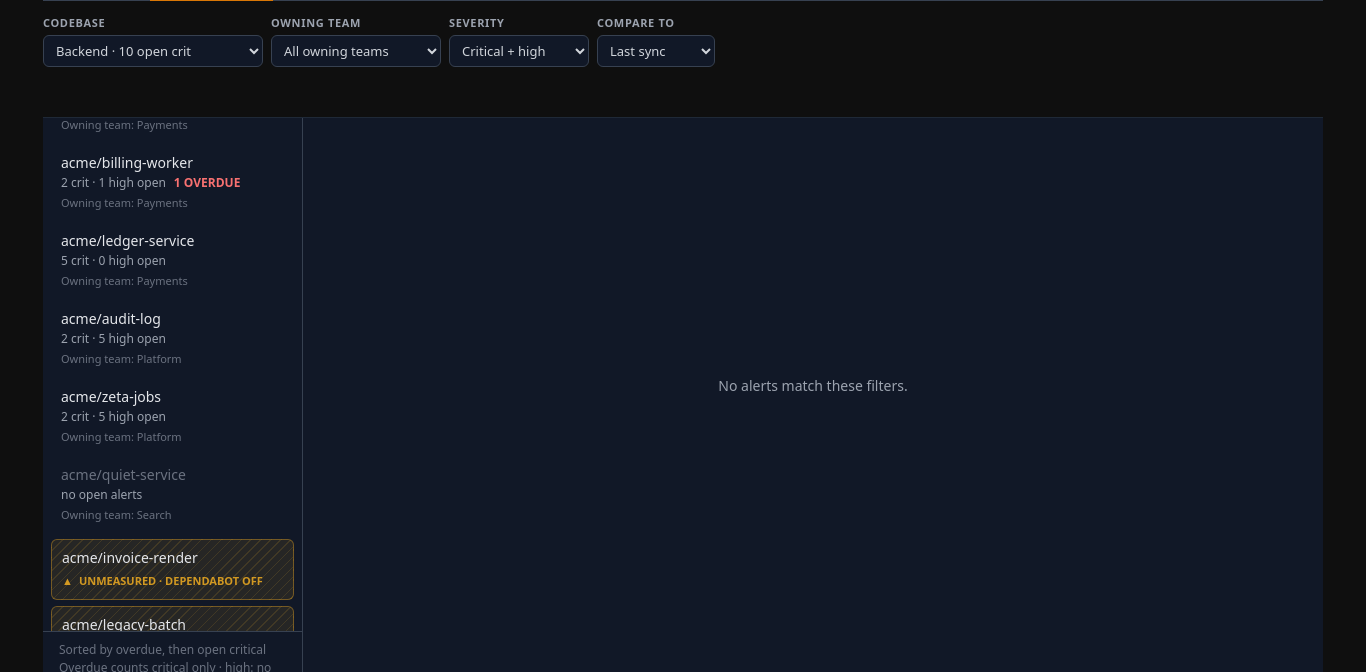
Test: selecting a repository from the rail › narrows the strip and the alerts request to that repository and tints the row; clicking it again clears it
(page scrolled)
Click the button with test id "rail-row". click: point(172, 339)
box: [51,301,294,377]
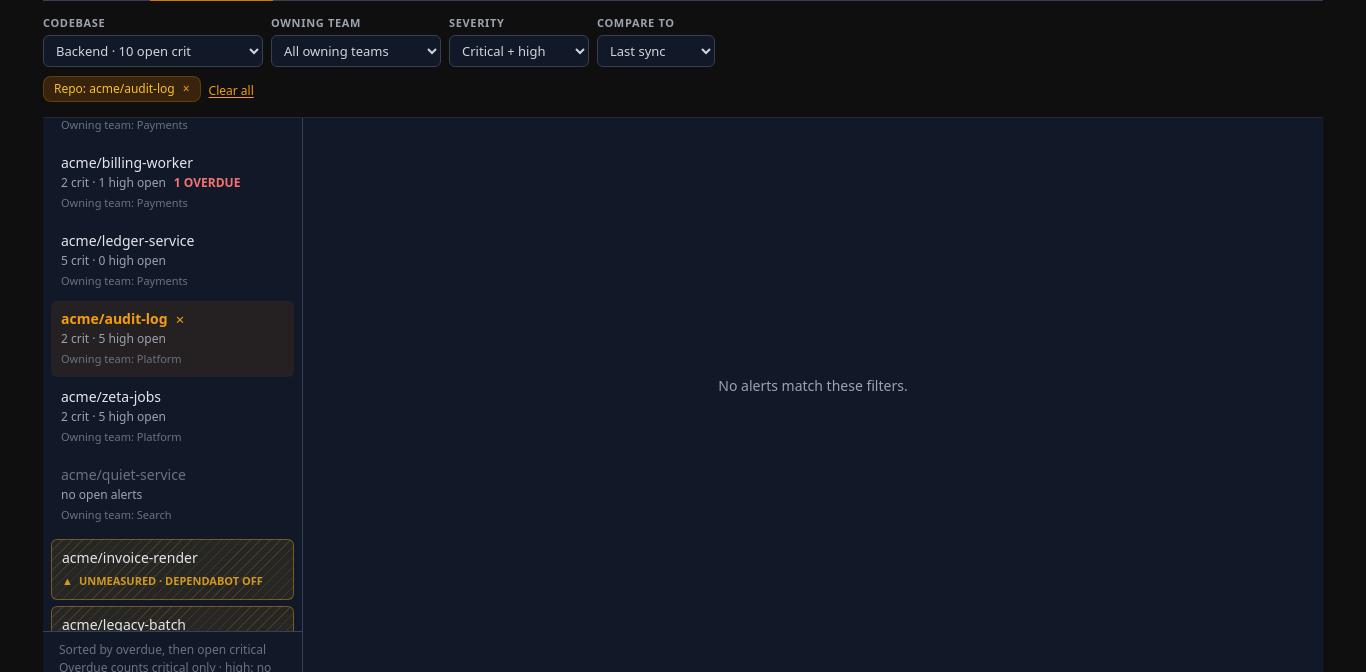
Expected: the button with test id "rail-row" has class "bg-accent/10"
Click the button with test id "rail-row". click: point(172, 339)
box: [51,301,294,377]
(page scrolled)
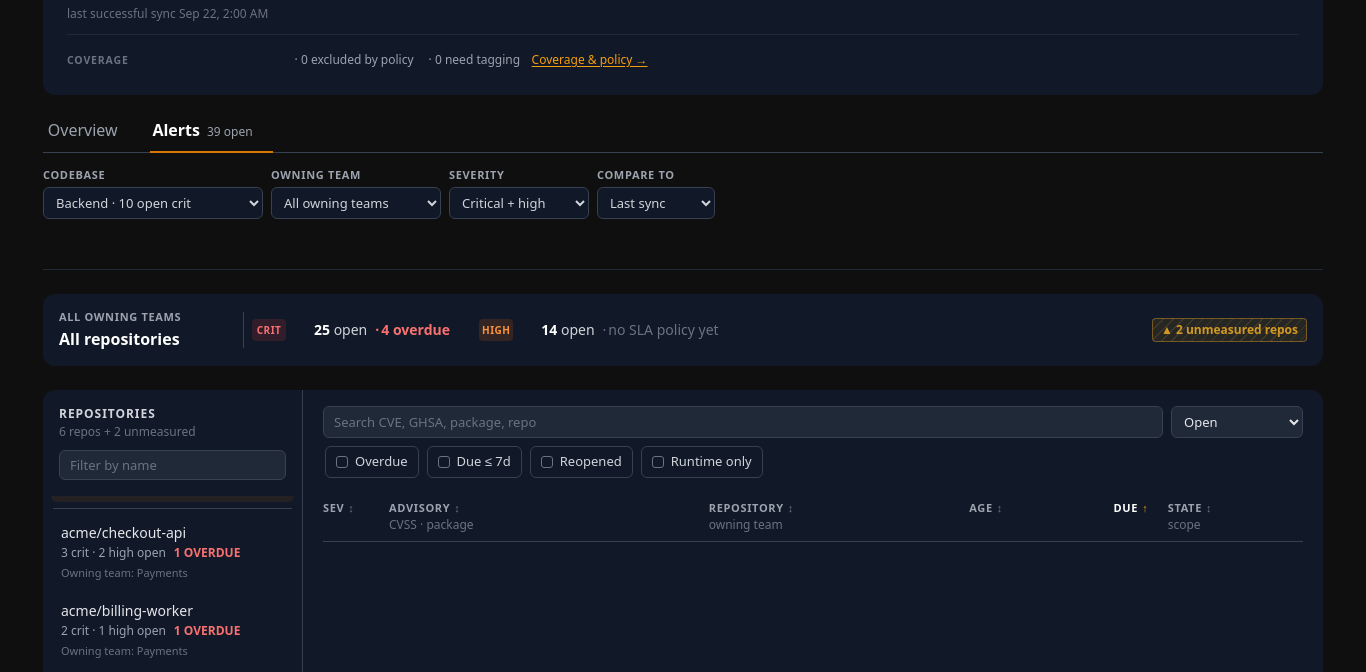
Expected: the text with test id "strip-title" reads "All repositories", [59,328,180,350]
